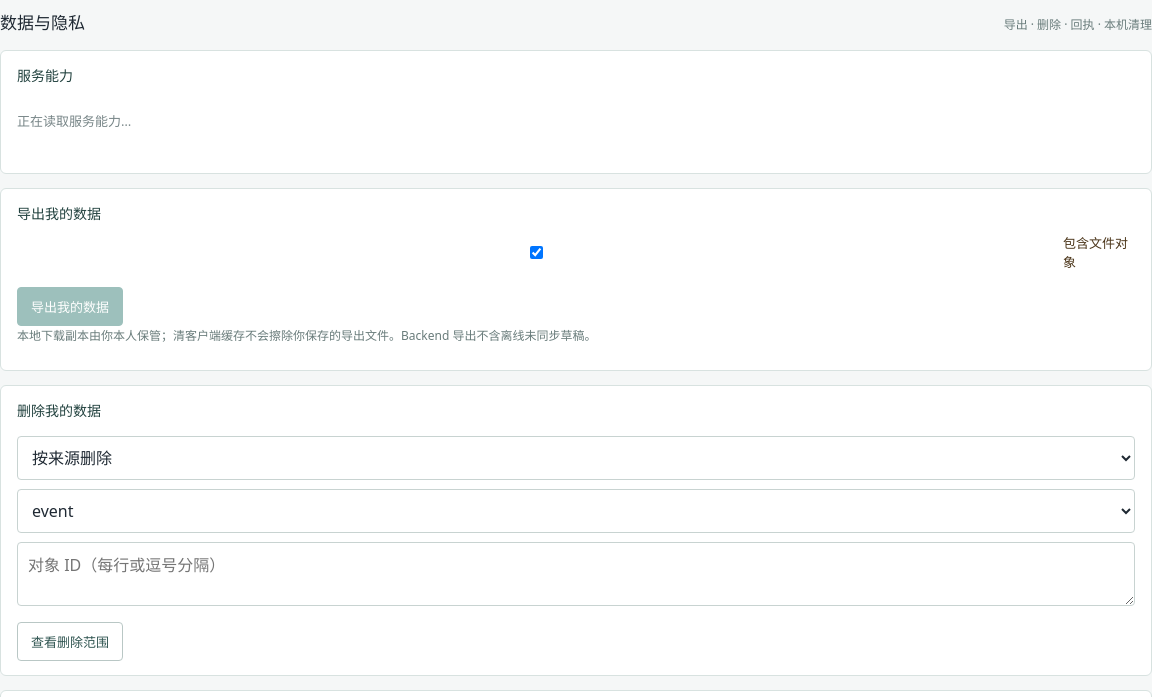
数据与隐私页 › 409 deletion_in_progress 显示冻结文案，不开第二个确认
This screenshot has width=1152, height=697.
Type "019ddddd-bbbb-7000-8000-000000000009" into the text box labelled "对象 ID" at {"x": 576, "y": 574}, box [17, 542, 1135, 606]
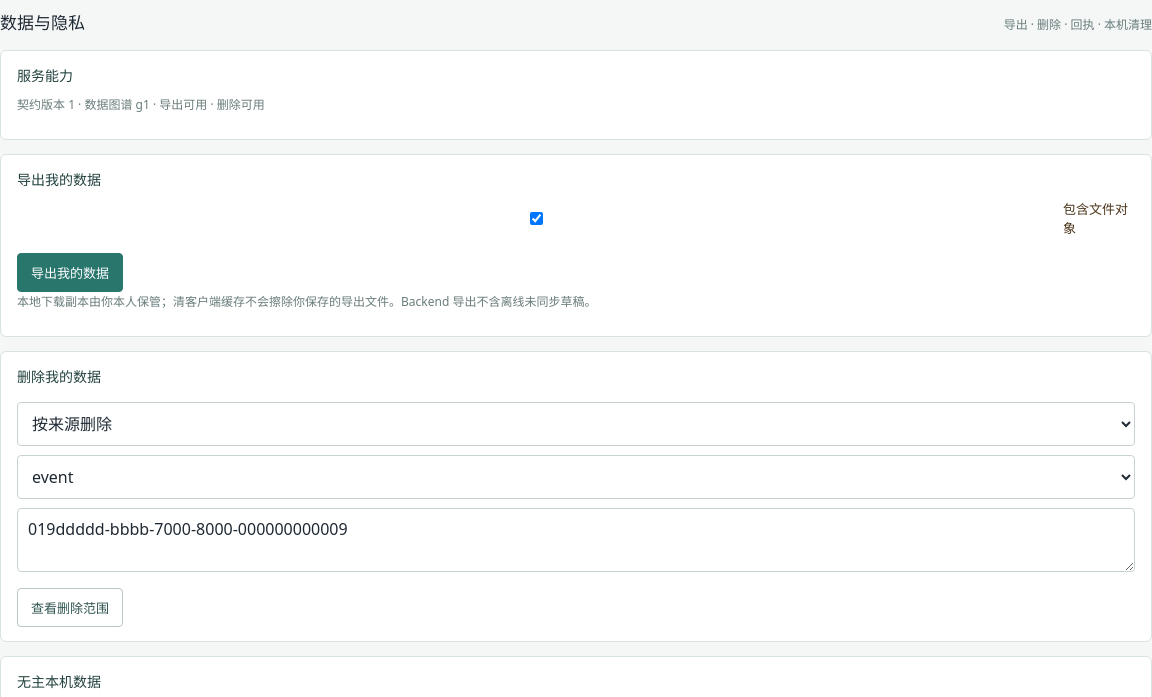
Click the button "查看删除范围" at {"x": 70, "y": 608}, box [17, 588, 123, 627]
(page scrolled)
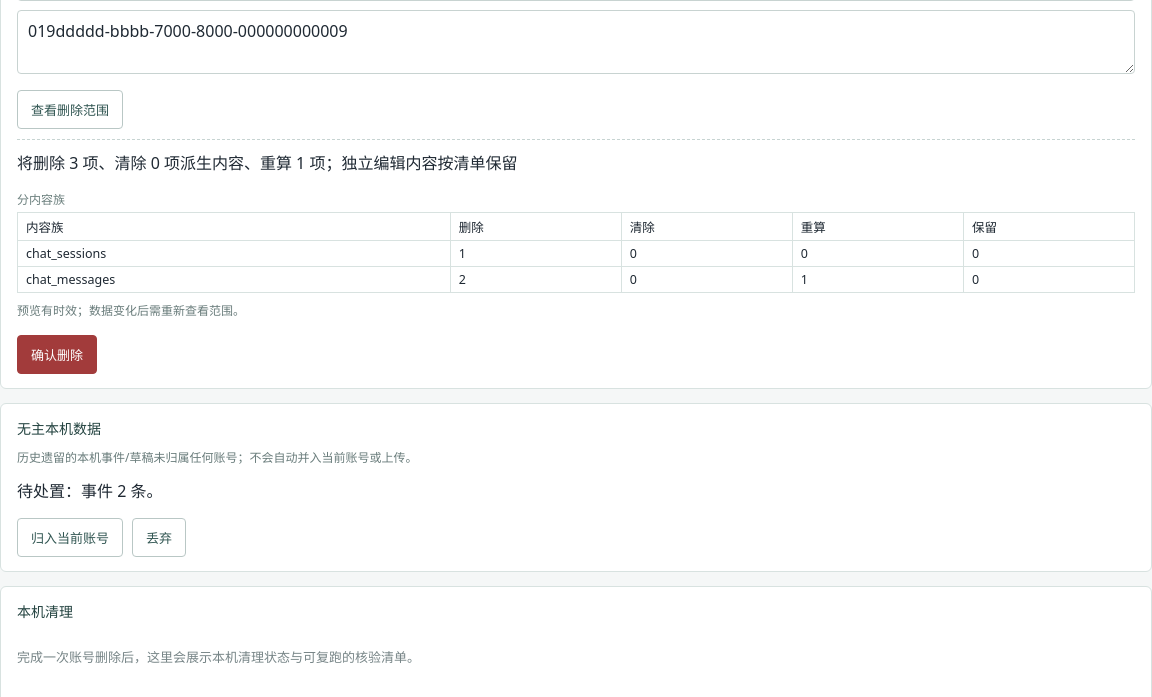
Click the button "确认删除" at {"x": 57, "y": 354}, box [17, 335, 97, 374]
(page scrolled)
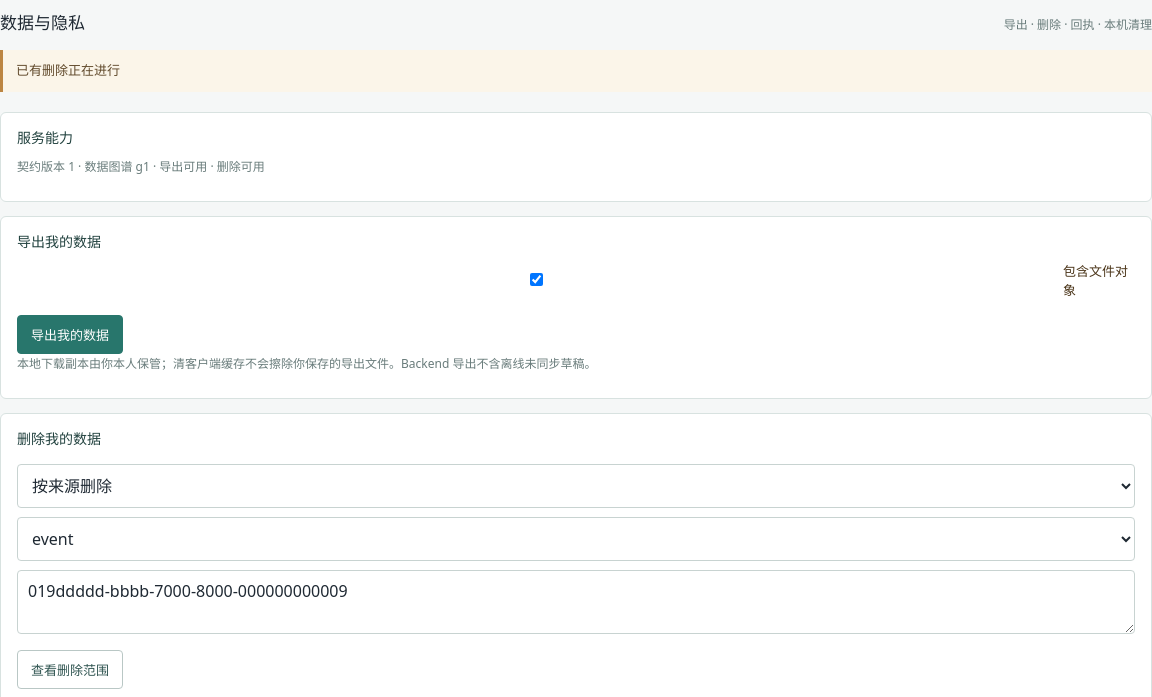
Check: the text "已有删除正在进行" is shown, box [0, 50, 1151, 92]
